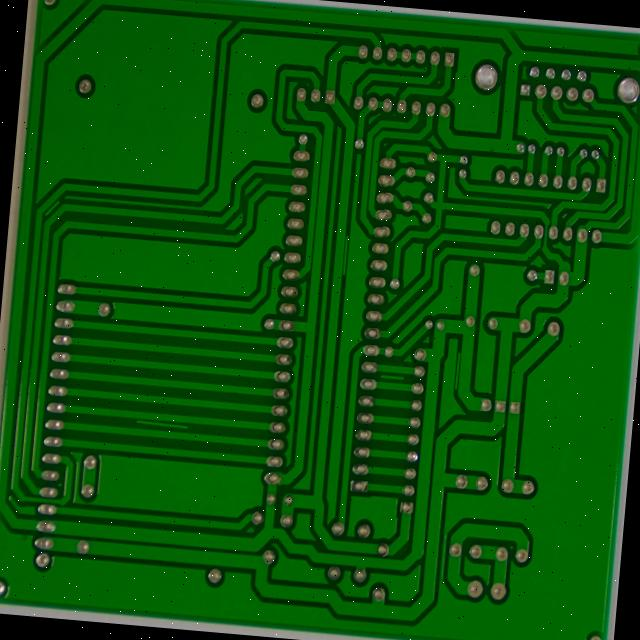spurious_copper: (143, 390, 208, 412), (366, 182, 386, 238), (488, 314, 505, 365), (47, 143, 68, 175), (410, 338, 442, 355)
